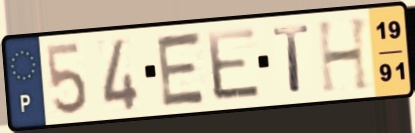4: (99, 34, 142, 113)
5: (43, 39, 90, 118)
E: (204, 25, 265, 103), (154, 29, 209, 110)
H: (315, 13, 374, 96)
T: (270, 23, 313, 96)
